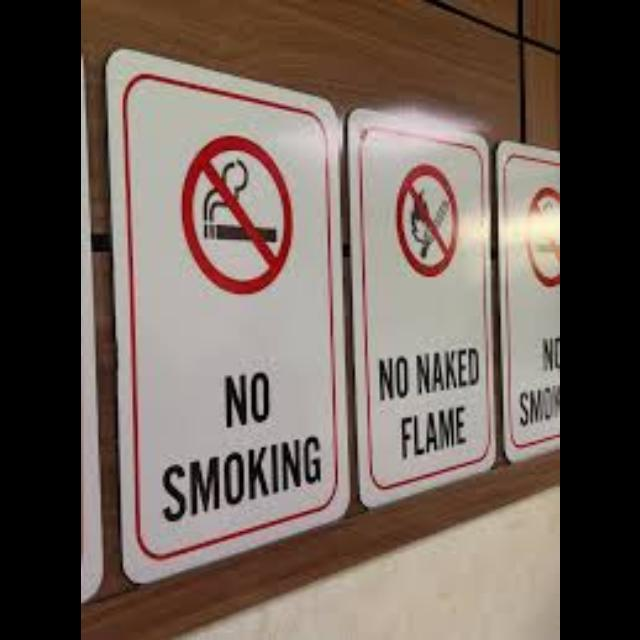cam hut thuoc: (110, 49, 344, 581)
